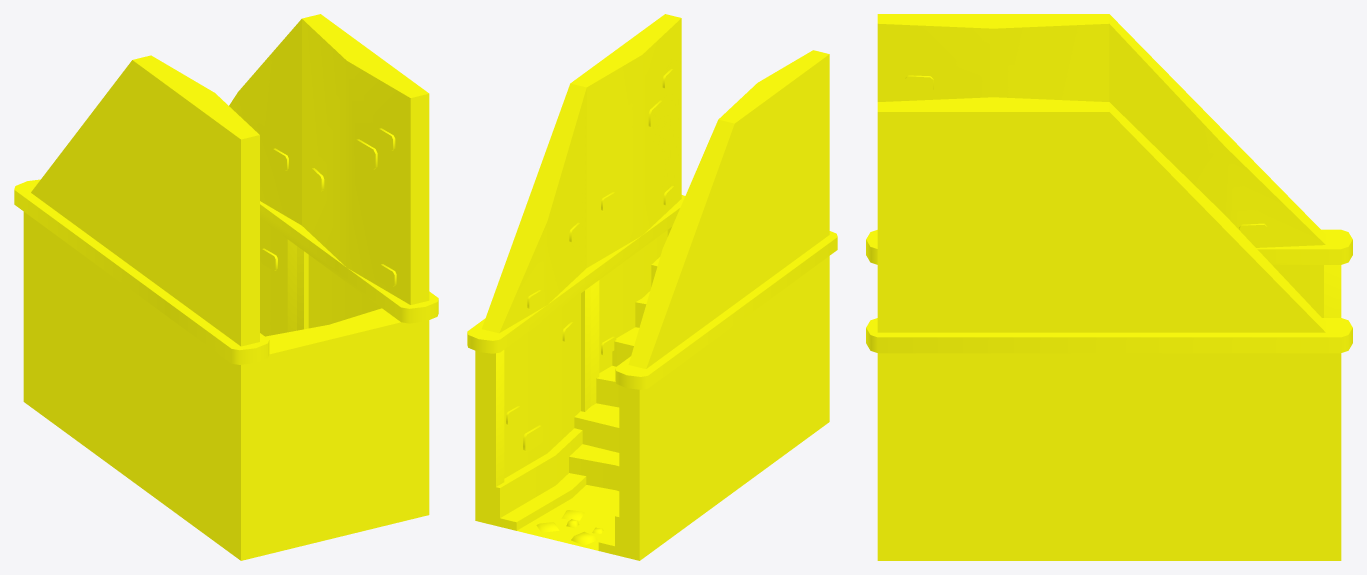
The model's file is 建筑构件_楼梯_地牢.glb.
The picture shows the model from 3 angles, left to right: view 1: azimuth 30°, elevation 25°; view 2: azimuth 150°, elevation 25°; view 3: azimuth 270°, elevation 25°; orthographic projection. The views are drawn at different scales.
Visible parts, largest first — view 1: stairs; view 2: stairs; view 3: stairs.
Boxes of the visible parts, x1,y1,x2,y2 form: stairs: [14, 14, 438, 560]; stairs: [467, 14, 837, 560]; stairs: [866, 14, 1352, 560].
Size of the model in its own units: 4.4 by 8.55 by 8.4.
1 material, 1 textured.
